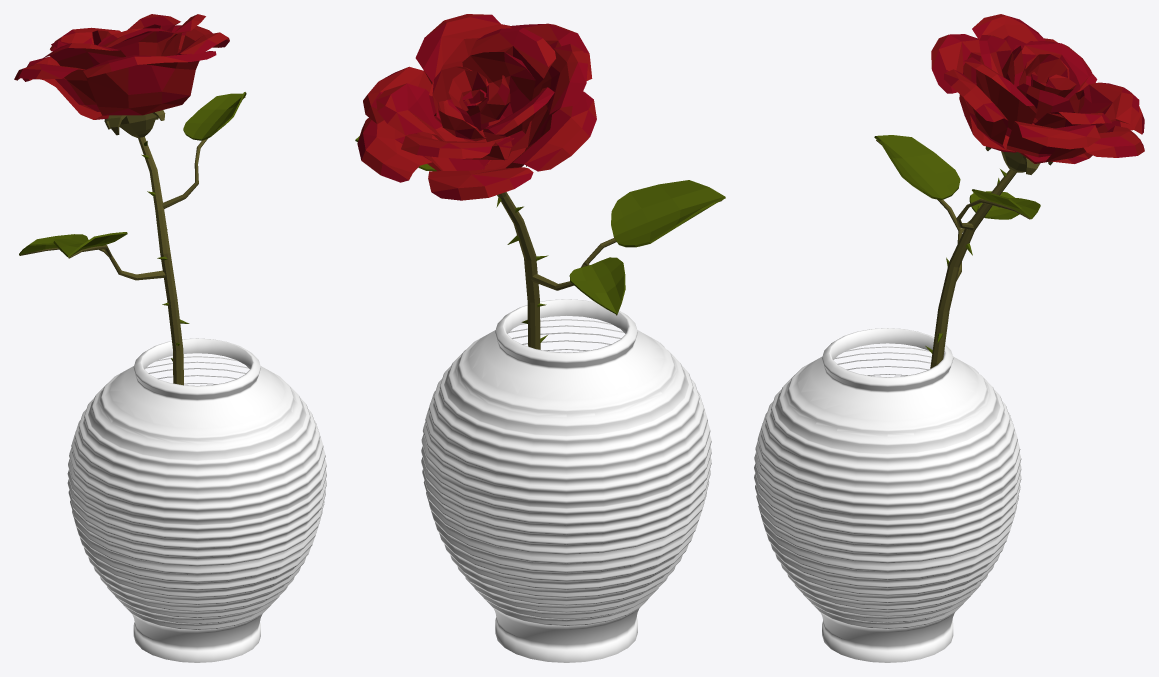
Rendered from flower2.glb.
3 renders of one model, left to right at view 1: azimuth 30°, elevation 25°; view 2: azimuth 150°, elevation 25°; view 3: azimuth 270°, elevation 25°, orthographic. The views are drawn at different scales.
Visible parts, largest first — view 1: Material2.003, Plane.014, Material2.001, Material2.002; view 2: Material2.003, Plane.014, Material2.001, Material2.002; view 3: Material2.003, Plane.014, Material2.001, Material2.002.
Boxes of the visible parts, x1,y1,x2,y2 form: Material2.003: [67, 356, 326, 651]; Plane.014: [14, 14, 246, 385]; Material2.001: [104, 338, 290, 435]; Material2.002: [133, 622, 260, 662]; Material2.003: [421, 319, 711, 649]; Plane.014: [355, 14, 725, 349]; Material2.001: [462, 299, 670, 408]; Material2.002: [495, 617, 637, 662]; Material2.003: [754, 346, 1021, 650]; Plane.014: [874, 14, 1144, 368]; Material2.001: [792, 328, 983, 428]; Material2.002: [822, 621, 953, 662].
Size of what is drawn, in the model's own units: 1.56 by 3.35 by 2.01.
